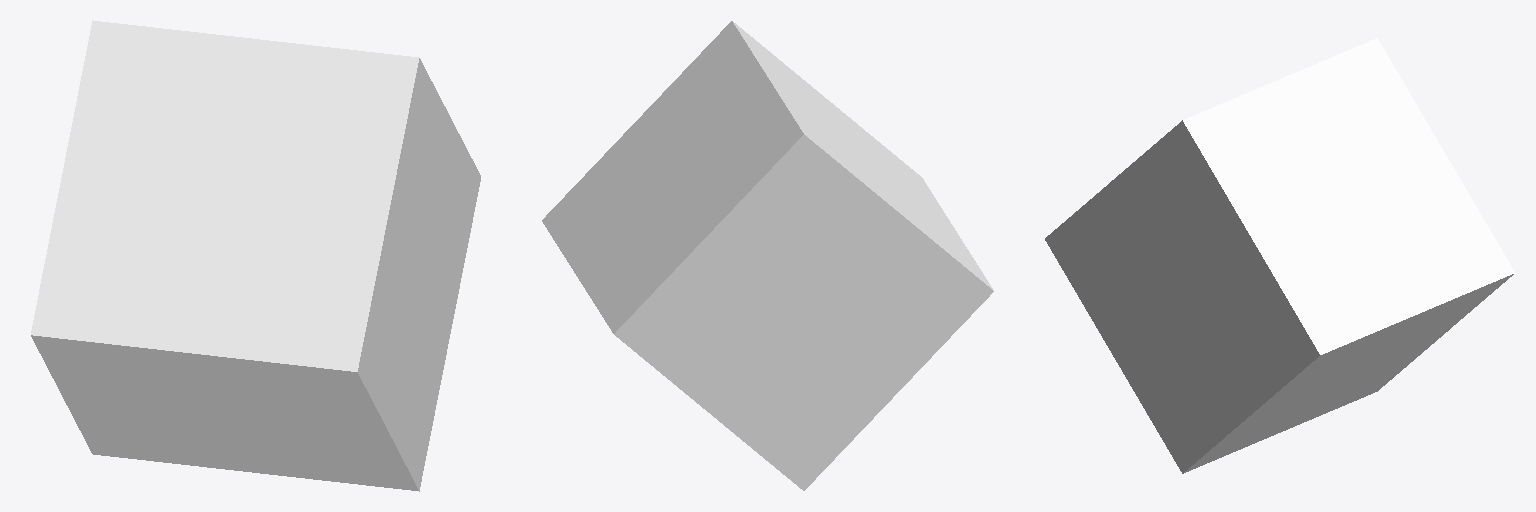
robot.urdf — cube_gripper_left.urdf:
<?xml version="0.0" ?>
<robot name="cube_gripper_left.urdf">
  <link name="world">
  </link>
  
  <link name="baseLink">
    <contact>
      <lateral_friction value="1.0"/>
      <rolling_friction value="1.0"/>
      <inertia_scaling value="3.0"/>
      <contact_cfm value="0.0"/>
      <contact_erp value="1.0"/>
    </contact>
    <inertial>
      <origin rpy="0 0 0" xyz="0 0 0"/>
       <mass value=".1"/>
       <inertia ixx="1" ixy="0" ixz="0" iyy="1" iyz="0" izz="1"/>
    </inertial>
    <visual>
      <origin rpy="0 0.785398 0.785398" xyz="0 0 0"/>
      <geometry>
				<mesh filename="cube.obj" scale=".05 .05 .05"/>
      </geometry>
       <material name="white">
        <color rgba="1 1 1 1"/>
      </material>
    </visual>
    <collision>
      <origin rpy="0 0.785398 0.785398" xyz="0 0 0"/>
      <geometry>
	 	<box size=".05 .05 .05"/>
      </geometry>
    </collision>
  </link>
  
  <joint name="cube_joint" type="prismatic">
    <parent link="world"/>
    <child link="baseLink"/>
    <origin rpy="0 0 0" xyz="0 0 0"/>
    <axis xyz="1 0 0"/>
    <limit effort="300" lower="-2.96705972839" upper="2.96705972839" velocity="10"/>
    <dynamics damping="0.0"/>
  </joint>
</robot>

--- Facts derived from the render (not from the file) ---
Views: 3 orthographic renders of the robot side by side, from view 1: azimuth 30°, elevation 25°; view 2: azimuth 150°, elevation 25°; view 3: azimuth 270°, elevation 25°.
Model cube_gripper_left.urdf with 2 links and 1 joints (1 prismatic), rooted at world, posed all joints at 0.
Links seen in each view (by area): view 1: baseLink; view 2: baseLink; view 3: baseLink.
Boxes of the visible links, x1,y1,x2,y2 form: baseLink: (31, 20, 480, 491); baseLink: (542, 21, 993, 490); baseLink: (1045, 38, 1514, 473).
Bounding box of the posed robot: 0.1707 × 0.1707 × 0.1414 m (x, y, z).
1 mesh visuals loaded from 1 distinct referenced files (1 OBJ).